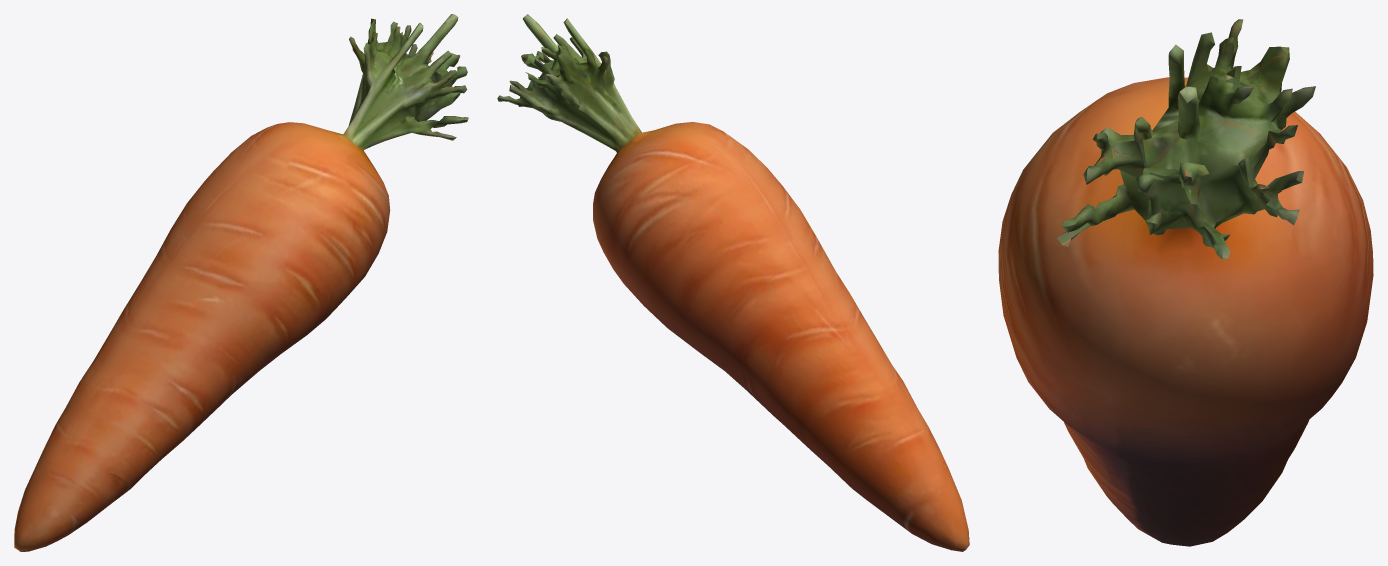
Rendered from carrot.glb.
3 views of the same model, side by side, from view 1: azimuth 30°, elevation 25°; view 2: azimuth 150°, elevation 25°; view 3: azimuth 270°, elevation 25° (orthographic). The views are drawn at different scales.
Parts seen in each view (by area): view 1: Carrot; view 2: Carrot; view 3: Carrot.
Part boxes in pixels (left/top/right/bottom): Carrot: left=14, top=14, right=468, bottom=551; Carrot: left=497, top=14, right=969, bottom=551; Carrot: left=998, top=19, right=1373, bottom=546.
Bounding box in the file's own units: 0.18 × 0.1663 × 0.0652.
1 material, 1 textured.
